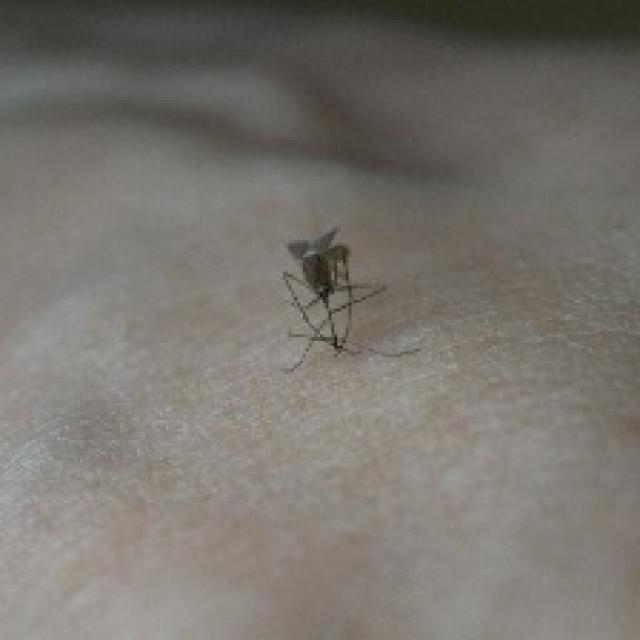culex: (277, 223, 420, 371)
